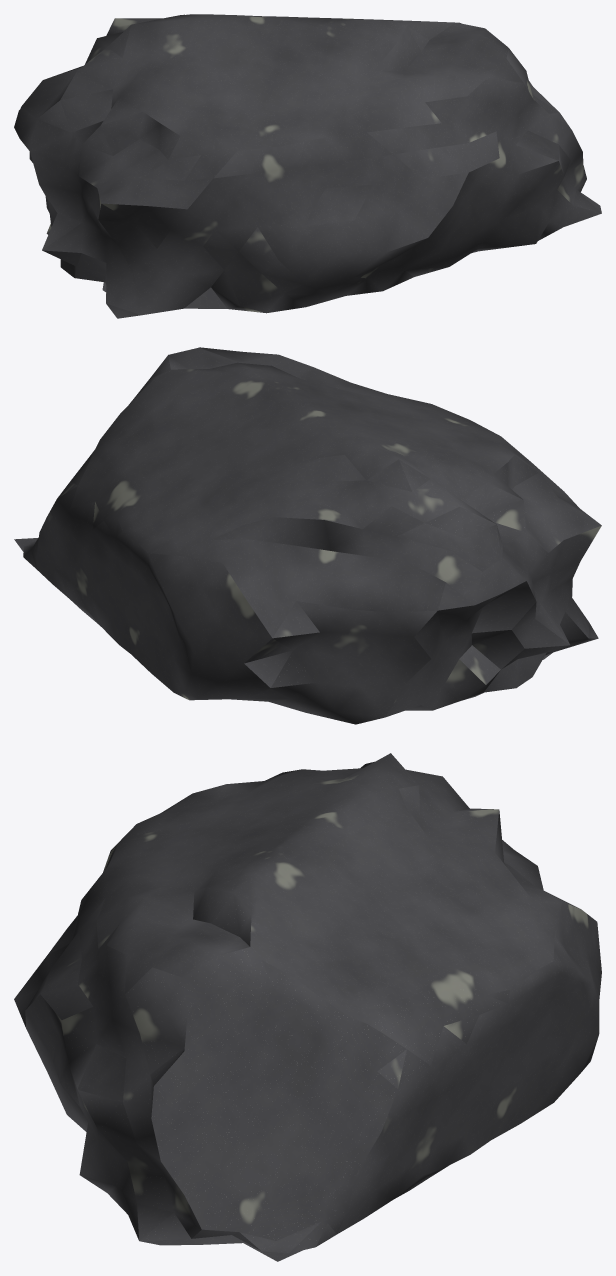
Rendered from SM_Rock_B.fbx.
The picture shows the model from 3 angles, top to bottom: view 1: azimuth 30°, elevation 25°; view 2: azimuth 150°, elevation 25°; view 3: azimuth 270°, elevation 25°; orthographic projection. The views are drawn at different scales.
Visible parts, largest first — view 1: SM_Rock_B; view 2: SM_Rock_B; view 3: SM_Rock_B.
Boxes of the visible parts, <box> form: SM_Rock_B: <box>14,14,601,318</box>; SM_Rock_B: <box>14,347,601,724</box>; SM_Rock_B: <box>14,753,601,1261</box>.
Size of what is drawn, in the model's own units: 117 by 154 by 57.44.
